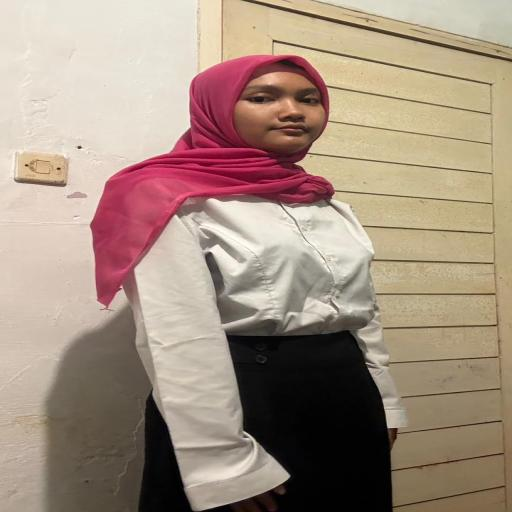kemeja_benar: (107, 182, 388, 341)
kerudung_benar: (105, 50, 352, 207)
rok_benar: (158, 334, 401, 512)
